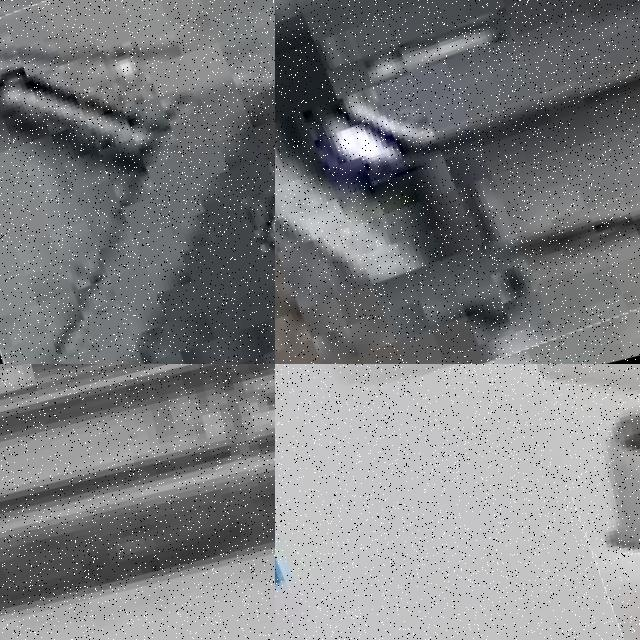drone: (275, 0, 640, 364), (0, 0, 275, 364), (275, 364, 616, 640)
